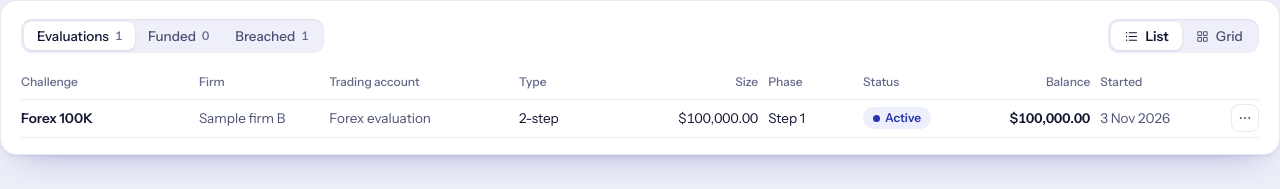
the prop filters narrow the challenges, and the sub-tab counts follow them (C37, C62)
The image size is (1280, 189).
Expected: the tab "Evaluations 1" is shown, [24,22,135,50]
Expected: the links read "Forex 100K", in this order, [21,110,93,126]
Click the tab "Funded 0" at [179, 36], box [135,22,222,50]
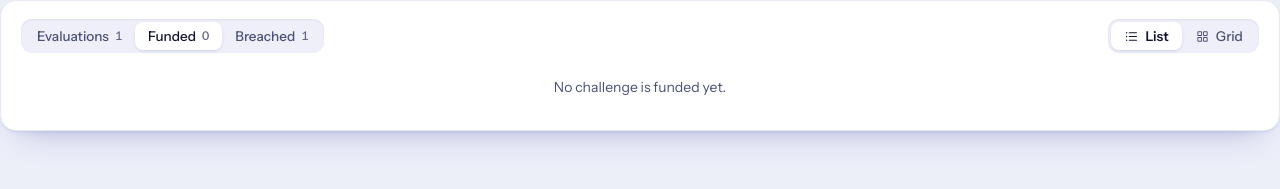
Expected: the text "No challenge is funded yet." is shown, [554,78,726,96]
